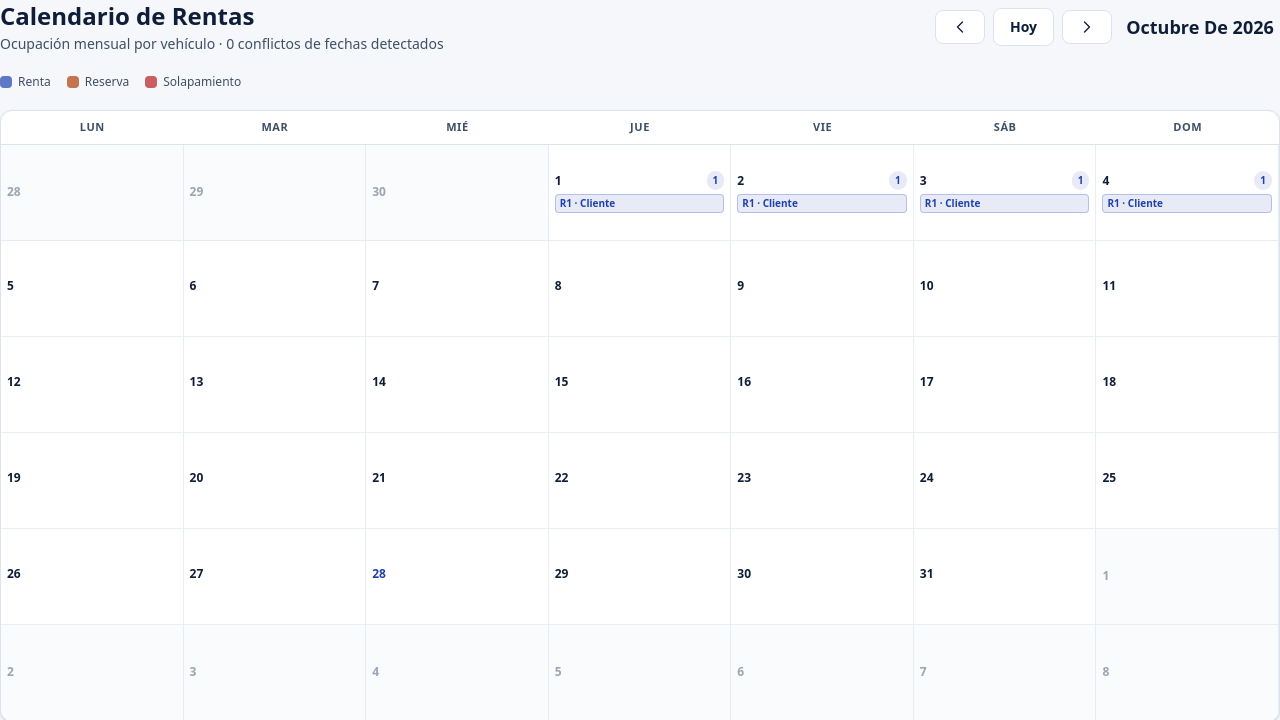
it: Calendario — ramas de navegación, errores y detalle › el detalle formatea el total con la moneda activa (multi-moneda)
The width and height of the screenshot is (1280, 720).
Click the button "1 1 R1 · Cliente": (640,192) [549,144,731,240]
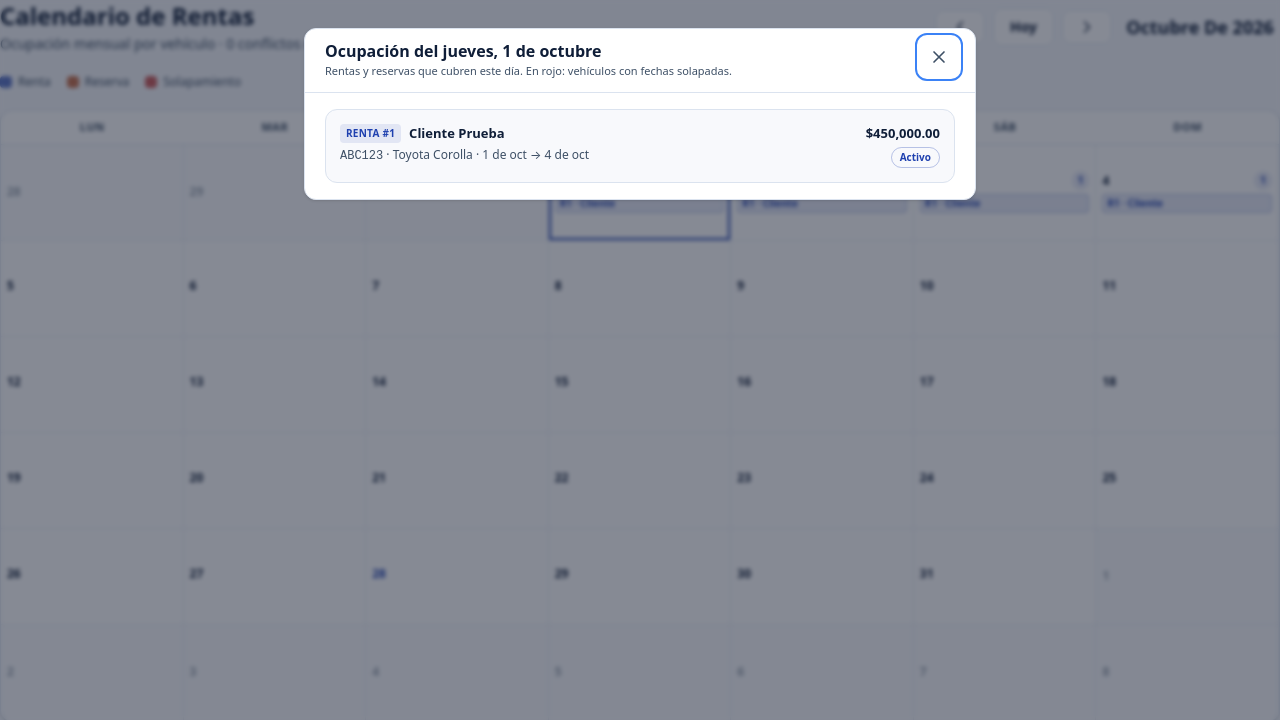
Expected: the dialog shows "$450,000.00", [866,124,940,142]
